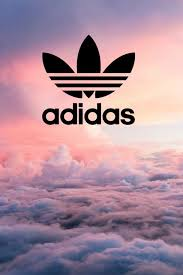adidas: (40, 34, 137, 125)
